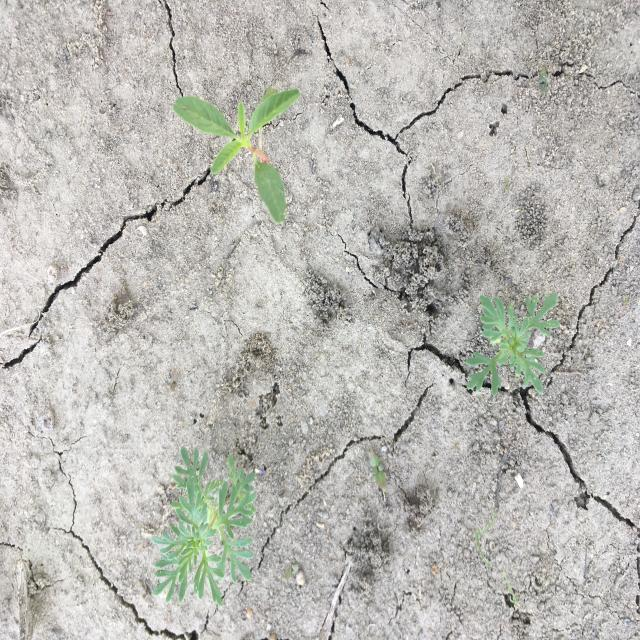Ragweed: (150, 444, 260, 609), (464, 290, 561, 397)
Waterhemp: (172, 85, 302, 224)
